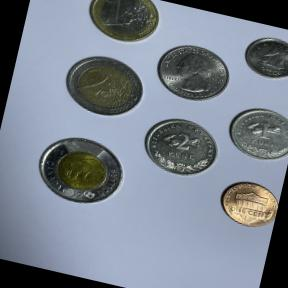coin: (25, 124, 134, 215), (56, 46, 150, 127), (147, 34, 239, 115), (136, 106, 226, 186), (210, 172, 282, 234), (78, 0, 165, 51), (236, 29, 288, 87)
